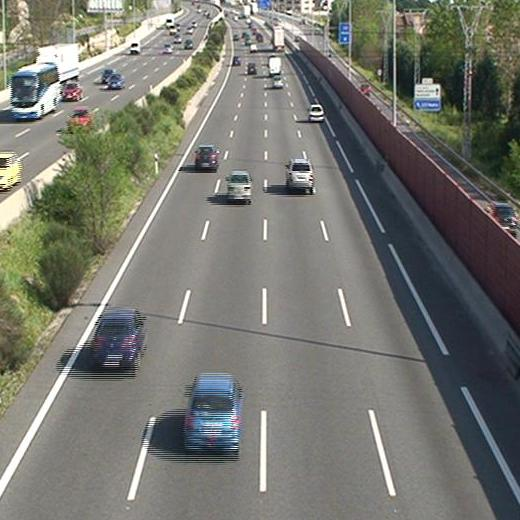car: (185, 376, 240, 447), (93, 311, 143, 366), (287, 160, 312, 187), (227, 173, 250, 201), (195, 145, 217, 168), (309, 106, 322, 120), (273, 77, 283, 89), (231, 56, 240, 66), (247, 63, 255, 72)
van: (269, 58, 281, 74)
